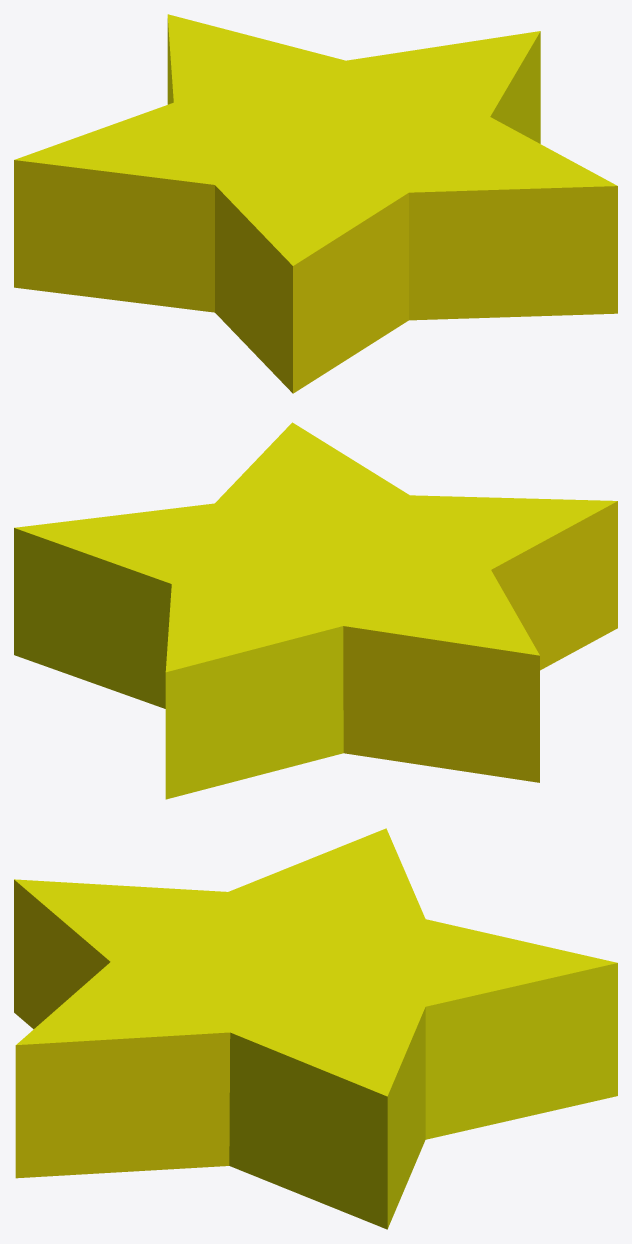
Rendered from star.fbx.
The picture shows the model from 3 angles, top to bottom: view 1: azimuth 30°, elevation 25°; view 2: azimuth 150°, elevation 25°; view 3: azimuth 270°, elevation 25°; orthographic projection. The views are drawn at different scales.
Parts seen in each view (by area): view 1: Cube; view 2: Cube; view 3: Cube.
Part boxes in pixels (box(x1,y1,x2,y2)): Cube: box(14, 14, 617, 393); Cube: box(14, 422, 617, 799); Cube: box(14, 828, 617, 1229).
Bounding box in the file's own units: 865 × 200 × 822.
